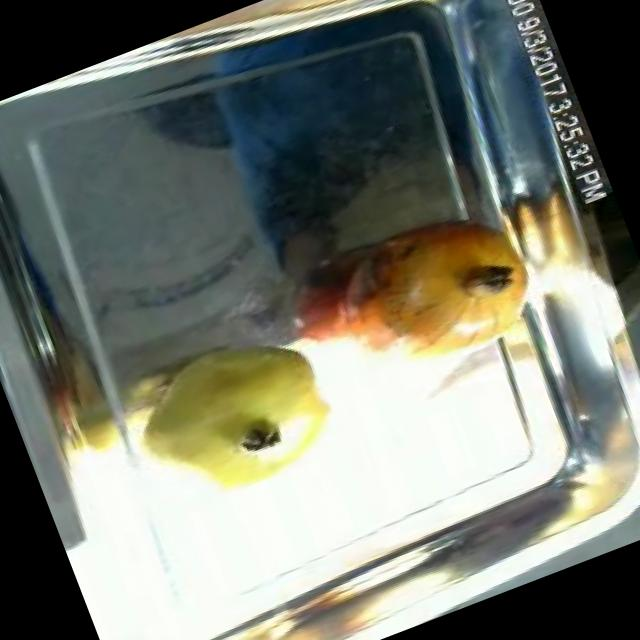fruit: (304, 180, 562, 403), (114, 304, 362, 523)
